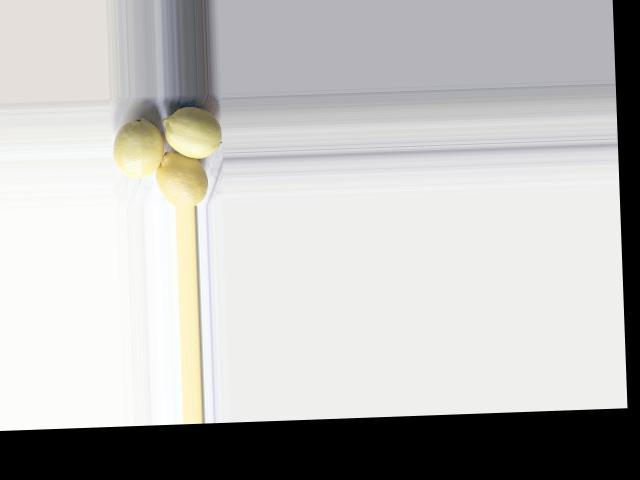lemon: (111, 113, 160, 179)
